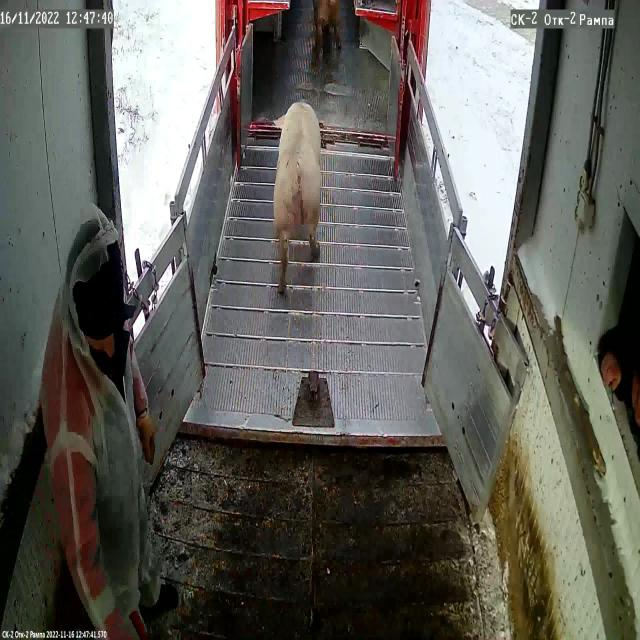pig: (274, 102, 320, 293)
